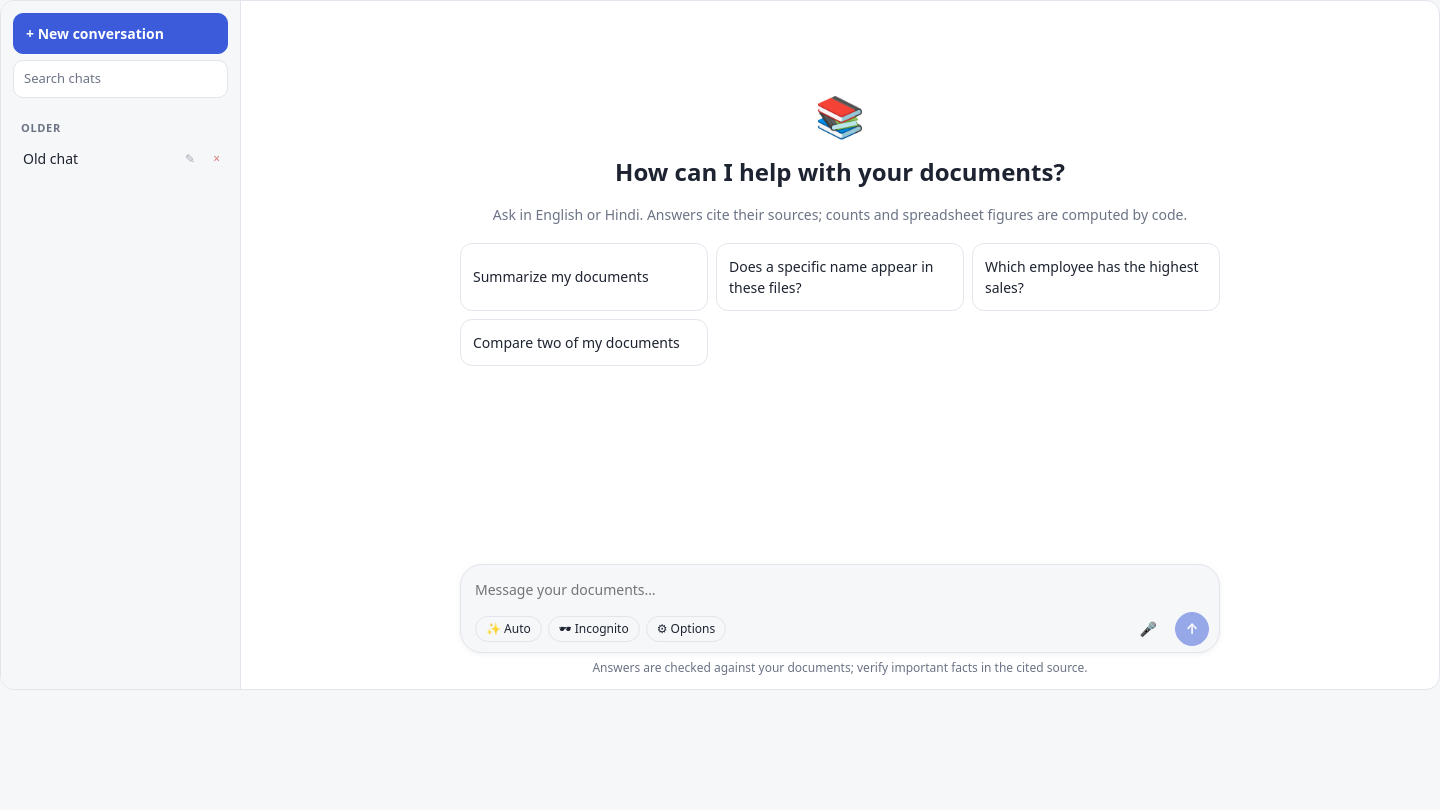
Test case: Chat › loads a past conversation from history
Click the button "Old chat" at x=94, y=158, box [13,140,175,177]
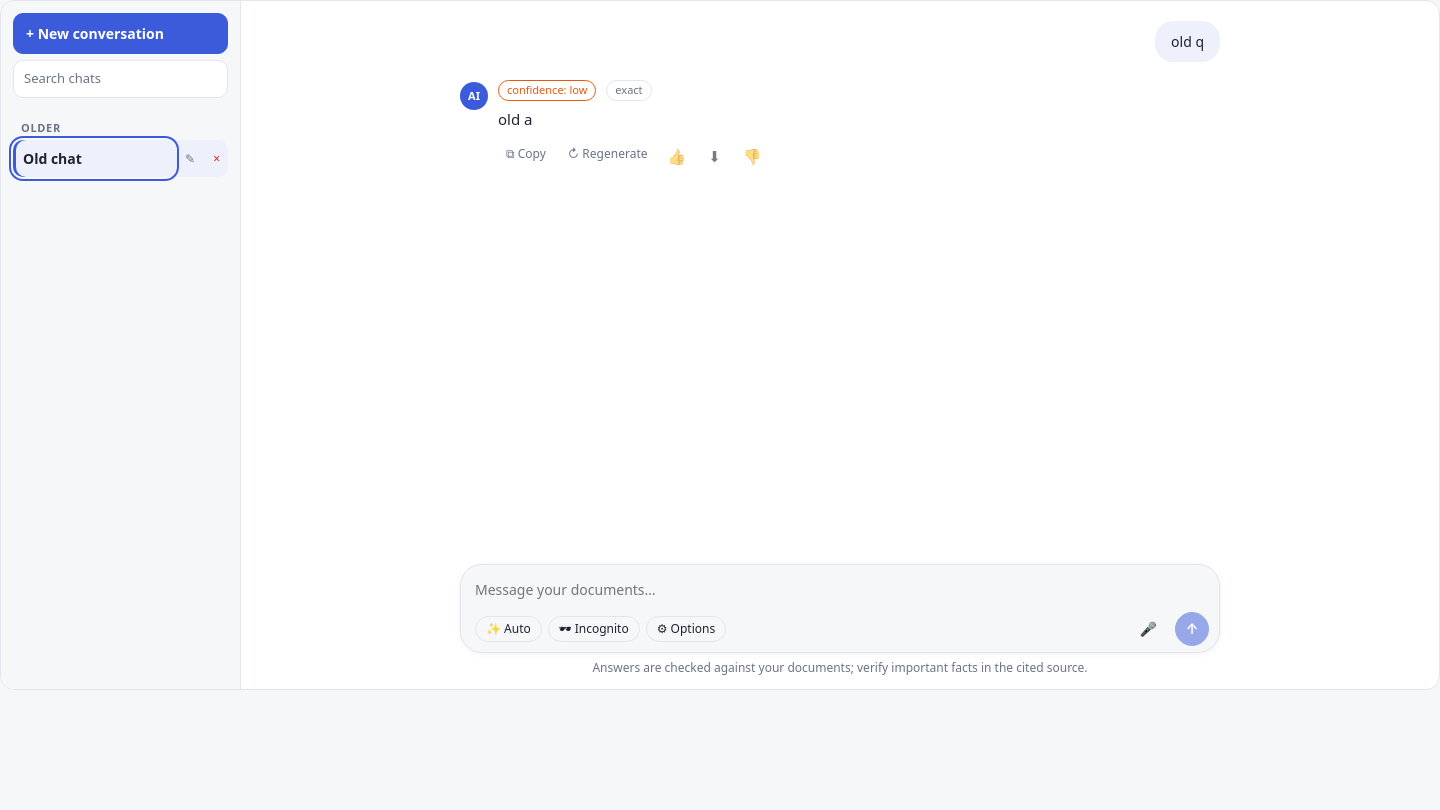
Expected: the text "old a" is shown, [498,108,532,128]
Expected: the text "confidence: low" is shown, [498,80,596,100]
